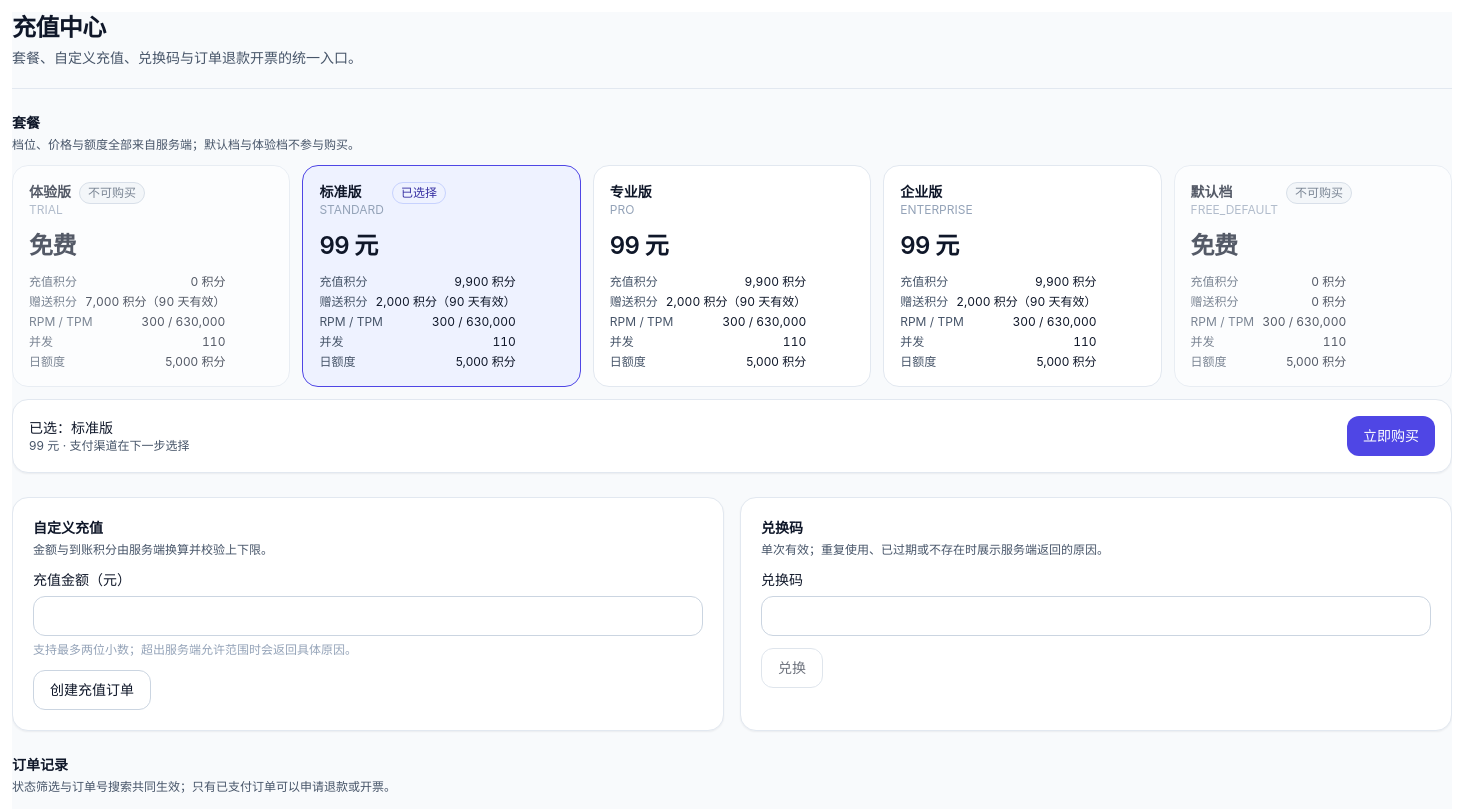
RechargePage › B-44: a 50 元 voucher shows 5,000 积分 — the 元 figure must never be formatted as credits
Type "ABC123XYZ" into the field labelled "兑换码" at (1096, 616), box [761,596,1431,636]
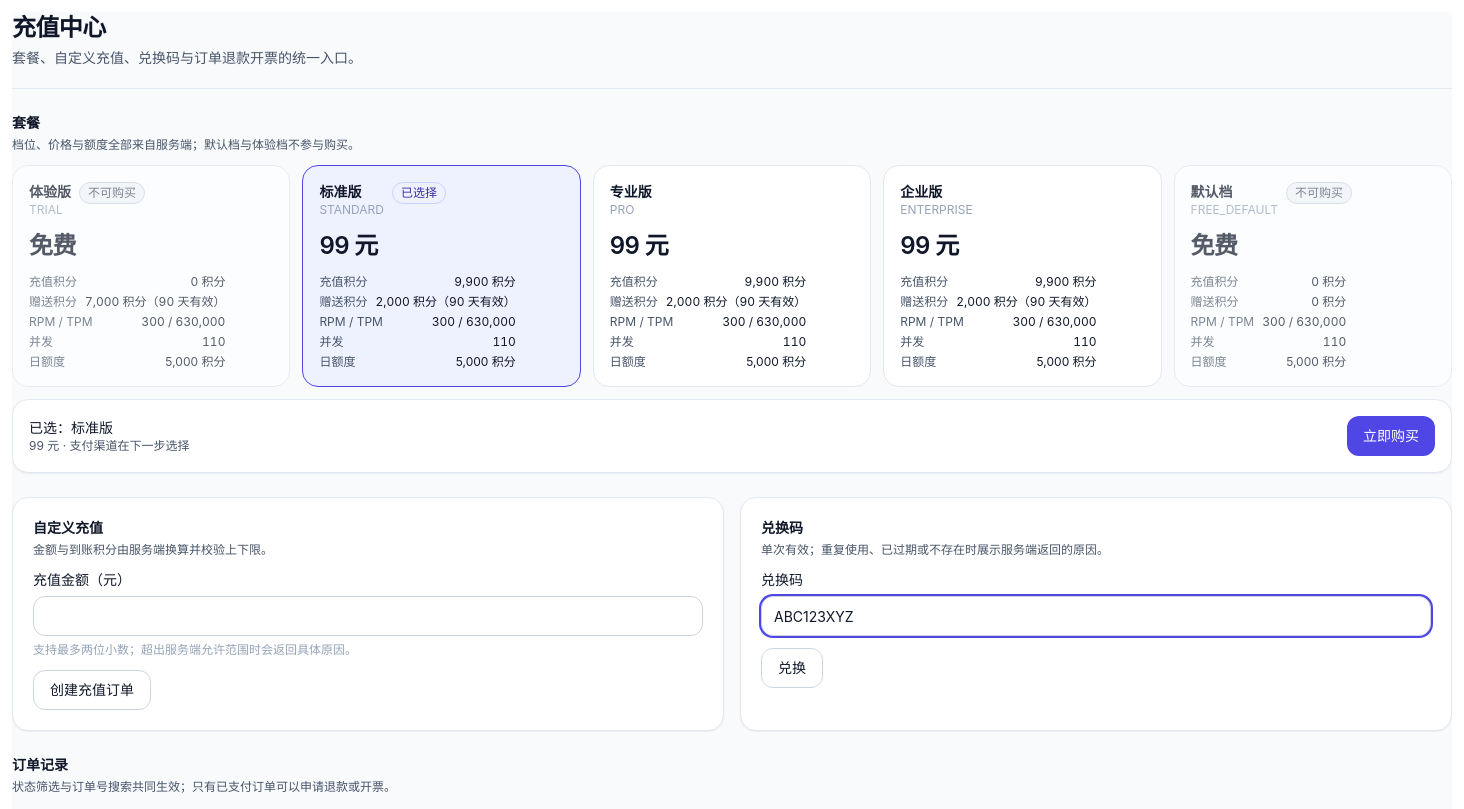
Click the button "兑换" at (792, 668), box [761,648,823,688]
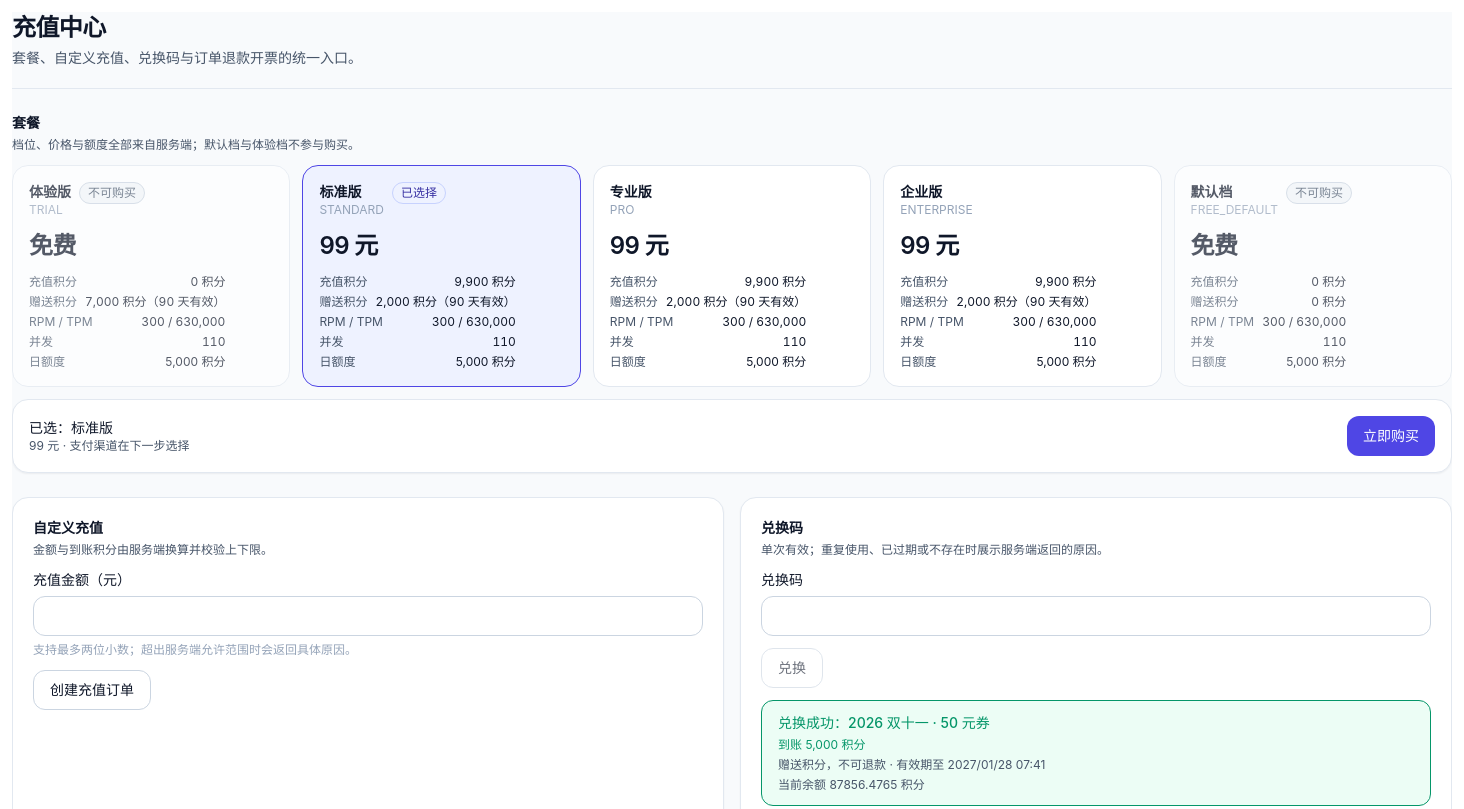
Check: the text "兑换成功：2026 双十一 · 50 元券" is shown, box [778,714,990,731]
Check: the text "到账 5,000 积分" is shown, box [778,737,866,752]
Check: the text "当前余额 87856.4765 积分" is shown, box [778,777,925,792]
